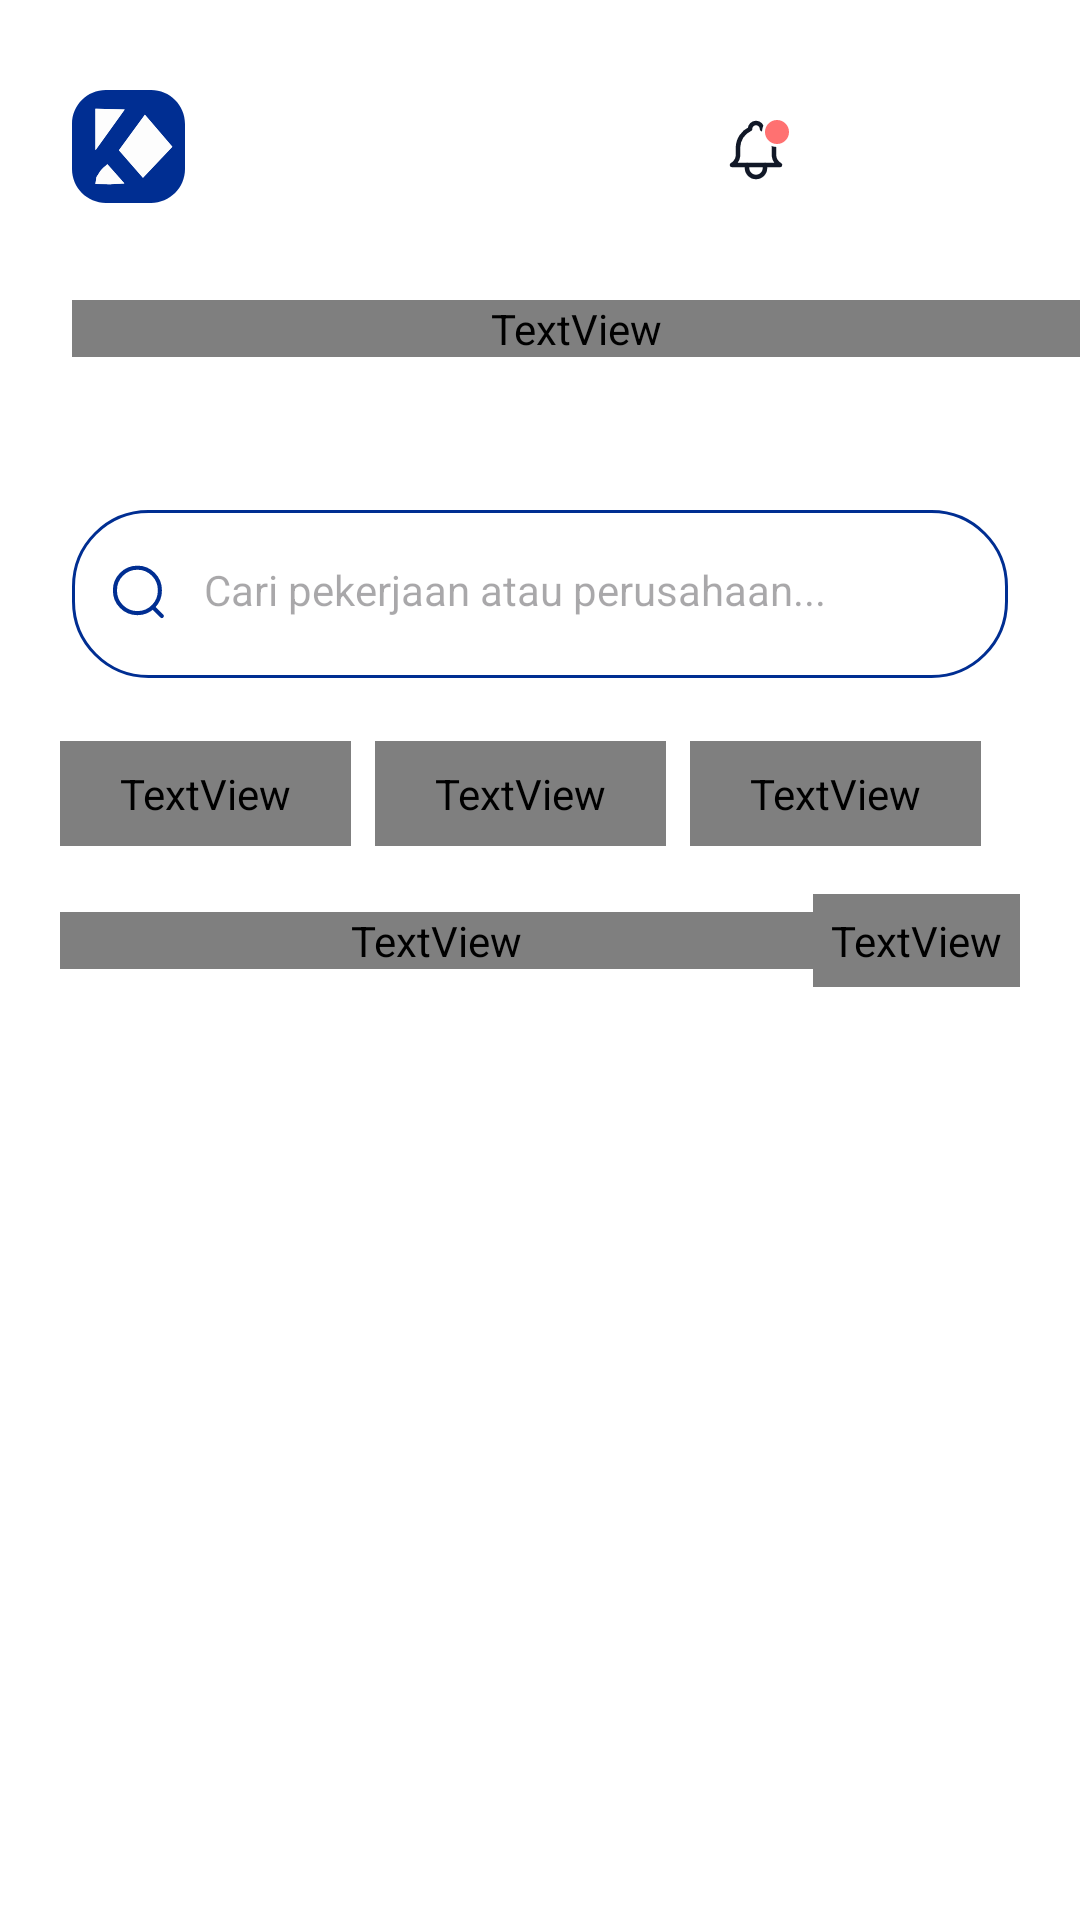

Icon bounding boxes for this 1080px x 1920px phone screenshot, format (x1, y1, x2, y2):
notifikasi: (729, 120, 789, 180)
